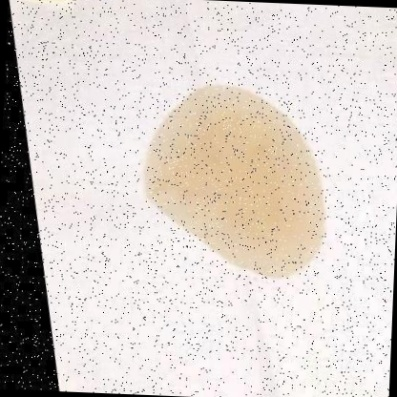coffee: (144, 79, 330, 283)
